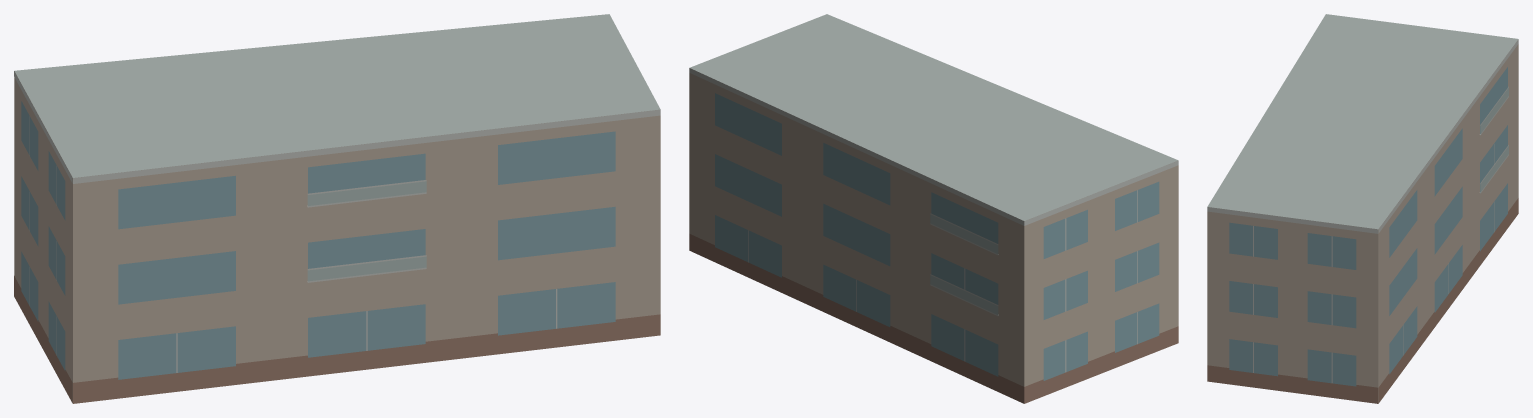
The model's file is survey-upis-32976911.glb.
3 renders of one model, left to right at view 1: azimuth 30°, elevation 25°; view 2: azimuth 150°, elevation 25°; view 3: azimuth 270°, elevation 25°, orthographic. The views are drawn at different scales.
Parts seen in each view (by area): view 1: survey-upis-32976911.tmp; view 2: survey-upis-32976911.tmp; view 3: survey-upis-32976911.tmp.
Boxes of the visible parts, x1,y1,x2,y2 form: survey-upis-32976911.tmp: [14, 14, 660, 403]; survey-upis-32976911.tmp: [689, 14, 1178, 403]; survey-upis-32976911.tmp: [1207, 14, 1518, 403].
Size of the model in its own units: 24.2 by 9.15 by 14.8.
